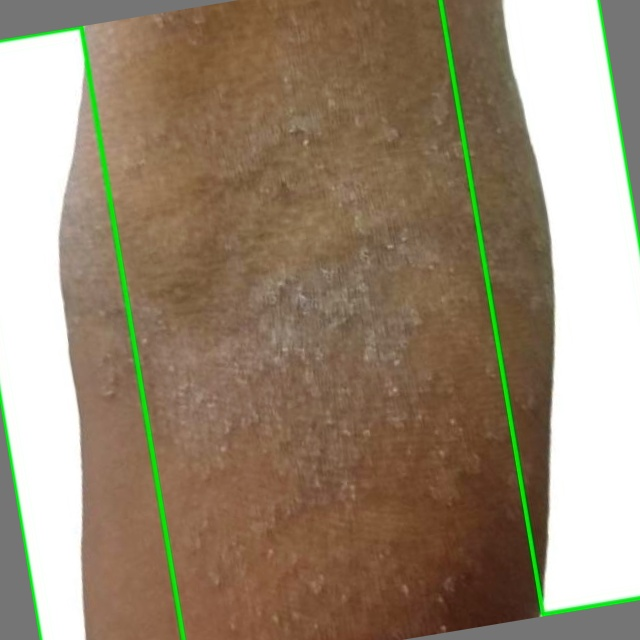Eczema: (440, 0, 639, 615), (0, 26, 183, 639)
